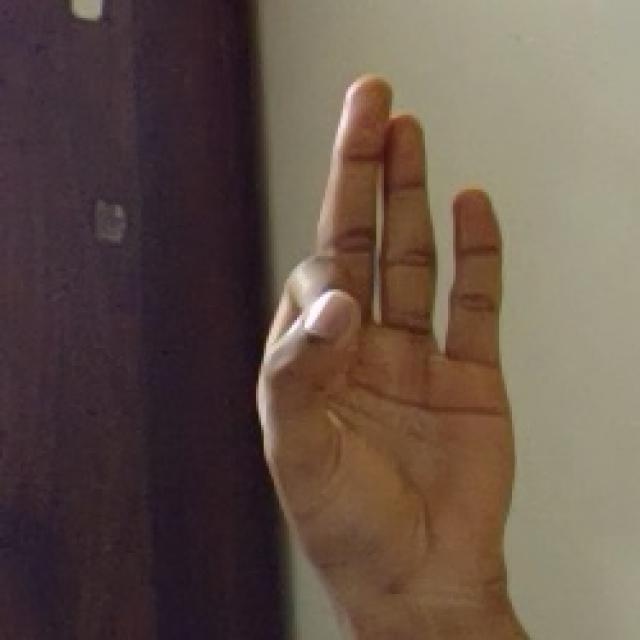Numeric-9: (252, 64, 521, 589)
